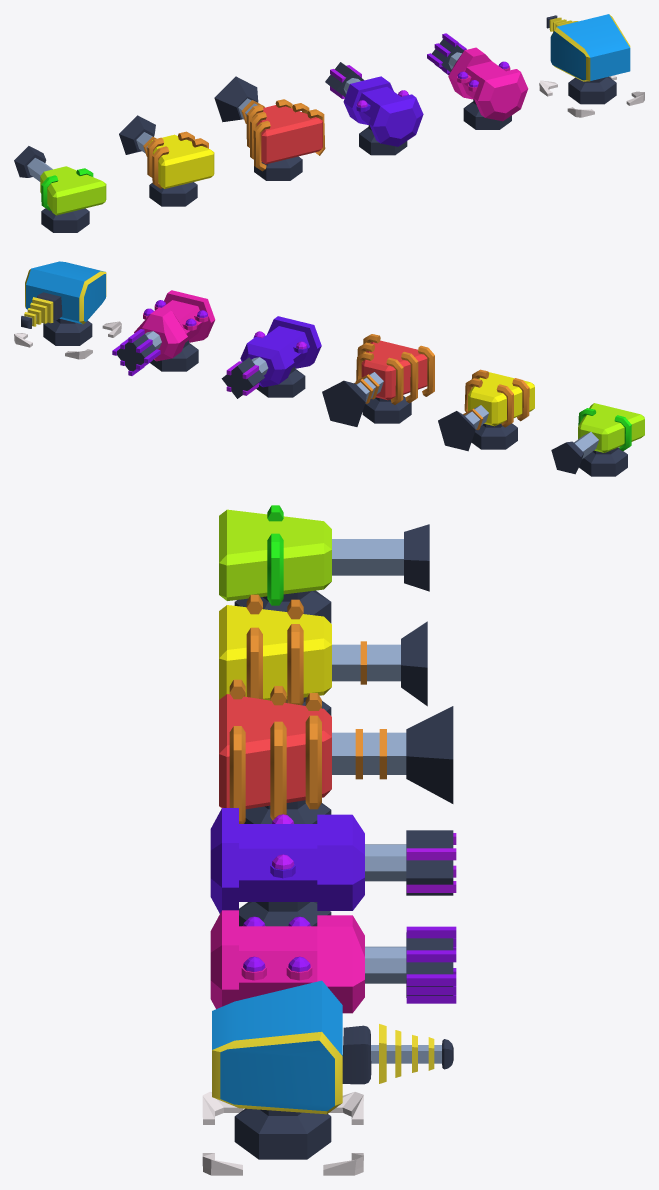
Rendered from YeniTurretlar.fbx.
The picture shows the model from 3 angles, top to bottom: view 1: azimuth 30°, elevation 25°; view 2: azimuth 150°, elevation 25°; view 3: azimuth 270°, elevation 25°; orthographic projection. The views are drawn at different scales.
Parts seen in each view (by area): view 1: NewTurret04, NewTurret07, NewTurret03, NewTurret06Body, NewTurret05Body, Newturret02, NewTurret06Muzzle, NewTurret05Muzzle, PlaceIndicator; view 2: NewTurret04, NewTurret07, NewTurret03, Newturret02, NewTurret05Body, NewTurret06Body, NewTurret06Muzzle, NewTurret05Muzzle, PlaceIndicator; view 3: NewTurret07, NewTurret04, NewTurret05Body, Newturret02, NewTurret03, NewTurret06Body, NewTurret06Muzzle, NewTurret05Muzzle, PlaceIndicator.
Boxes of the visible parts, x1=… form: NewTurret04: x1=214, y1=76, x2=325, y2=180; NewTurret07: x1=546, y1=14, x2=630, y2=104; NewTurret03: x1=119, y1=115, x2=214, y2=206; NewTurret06Body: x1=448, y1=47, x2=528, y2=129; NewTurret05Body: x1=343, y1=76, x2=423, y2=155; Newturret02: x1=14, y1=146, x2=106, y2=232; NewTurret06Muzzle: x1=427, y1=33, x2=466, y2=75; NewTurret05Muzzle: x1=325, y1=62, x2=363, y2=98; PlaceIndicator: x1=539, y1=75, x2=644, y2=117; NewTurret04: x1=322, y1=334, x2=434, y2=426; NewTurret07: x1=21, y1=261, x2=106, y2=345; NewTurret03: x1=438, y1=369, x2=534, y2=451; Newturret02: x1=551, y1=403, x2=644, y2=476; NewTurret05Body: x1=240, y1=316, x2=321, y2=397; NewTurret06Body: x1=134, y1=290, x2=215, y2=371; NewTurret06Muzzle: x1=112, y1=329, x2=160, y2=375; NewTurret05Muzzle: x1=221, y1=357, x2=264, y2=398; PlaceIndicator: x1=14, y1=321, x2=121, y2=359; NewTurret07: x1=212, y1=980, x2=453, y2=1159; NewTurret04: x1=219, y1=679, x2=453, y2=823; NewTurret05Body: x1=210, y1=808, x2=406, y2=926; Newturret02: x1=219, y1=505, x2=429, y2=623; NewTurret03: x1=219, y1=594, x2=427, y2=715; NewTurret06Body: x1=210, y1=910, x2=406, y2=1013; NewTurret06Muzzle: x1=406, y1=926, x2=456, y2=1003; NewTurret05Muzzle: x1=406, y1=830, x2=456, y2=895; PlaceIndicator: x1=202, y1=1092, x2=363, y2=1175.
Size of the model in its own units: 1686 by 186 by 315.
